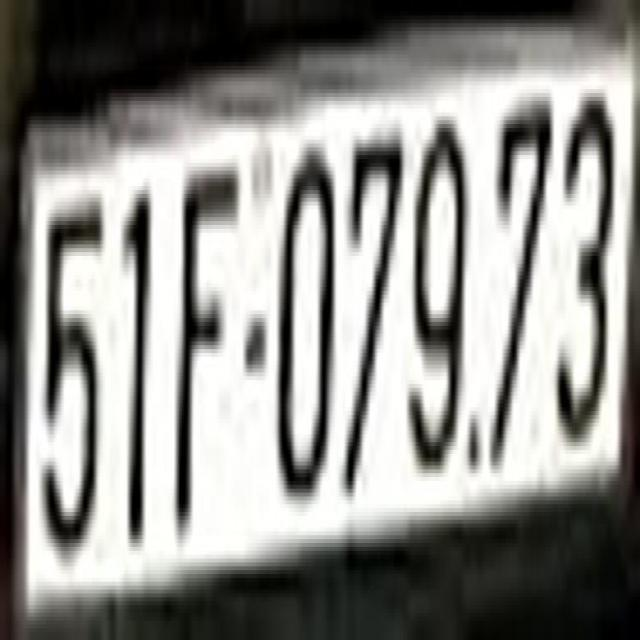0: (272, 128, 332, 520)
1: (116, 183, 150, 566)
3: (555, 93, 614, 466)
5: (44, 182, 102, 555)
7: (341, 109, 402, 528), (488, 93, 548, 477)
9: (409, 101, 462, 485)
F: (172, 171, 240, 544)
